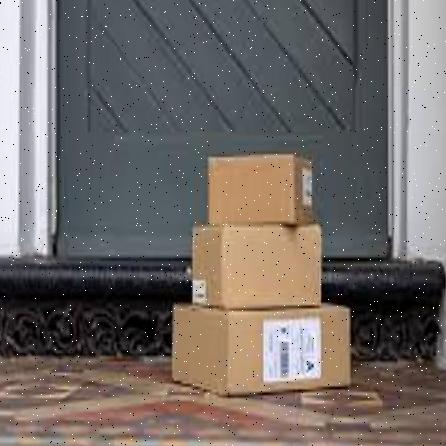Other: (164, 300, 351, 397), (187, 222, 322, 313), (202, 150, 316, 230)
